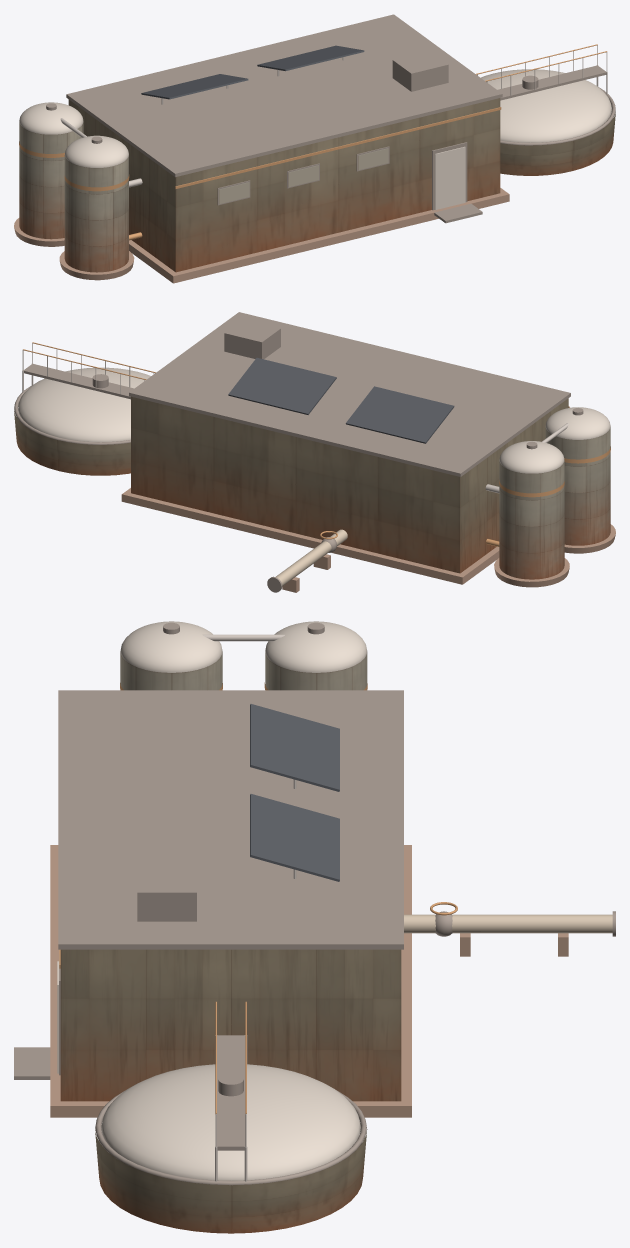
Rendered from E13_water_treatment.glb.
3 views of the same model, one above another, from view 1: azimuth 30°, elevation 25°; view 2: azimuth 150°, elevation 25°; view 3: azimuth 270°, elevation 25° (orthographic). The views are drawn at different scales.
Parts seen in each view (by area): view 1: roof_edge, treatment_hall, filter_tank (×2), settling_tank_cover, foundation, settling_tank_wall, filter_tank_head (×2), roof_radiator (×2), airlock_door, roof_air_unit, window (×3), tank_base (×2) (+6 smaller); view 2: treatment_hall, roof_edge, filter_tank (×2), roof_radiator (×2), settling_tank_cover, foundation, settling_tank_wall, filter_tank_head (×2), roof_air_unit, tank_base (×2), settling_walkway, intake_pipe (+1 smaller); view 3: roof_edge, treatment_hall, settling_tank_cover, settling_tank_wall, roof_radiator (×2), filter_tank_head (×2), foundation, filter_tank (×2), intake_pipe, roof_air_unit, settling_walkway, settling_tank_rim (+1 smaller).
Part boxes in pixels (<box>): roof_edge: <box>66,14,502,177</box>; treatment_hall: <box>68,98,500,272</box>; filter_tank (×2): <box>19,121,128,272</box>; settling_tank_cover: <box>481,69,611,142</box>; foundation: <box>129,188,509,283</box>; settling_tank_wall: <box>500,112,615,175</box>; filter_tank_head (×2): <box>19,102,128,167</box>; roof_radiator (×2): <box>141,45,364,99</box>; airlock_door: <box>435,146,465,209</box>; roof_air_unit: <box>392,51,448,91</box>; window (×3): <box>219,148,388,204</box>; tank_base (×2): <box>14,218,134,280</box>; treatment_hall: <box>131,396,568,573</box>; roof_edge: <box>129,312,570,476</box>; filter_tank (×2): <box>499,427,610,579</box>; roof_radiator (×2): <box>228,357,454,443</box>; settling_tank_cover: <box>18,367,150,442</box>; foundation: <box>121,488,499,584</box>; settling_tank_wall: <box>14,411,130,475</box>; filter_tank_head (×2): <box>499,407,610,473</box>; roof_air_unit: <box>224,319,280,359</box>; tank_base (×2): <box>494,524,615,587</box>; settling_walkway: <box>23,364,133,399</box>; intake_pipe: <box>276,529,347,586</box>; roof_edge: <box>58,690,403,949</box>; treatment_hall: <box>60,949,401,1101</box>; settling_tank_cover: <box>101,1064,360,1180</box>; settling_tank_wall: <box>95,1129,367,1233</box>; roof_radiator (×2): <box>250,704,339,881</box>; filter_tank_head (×2): <box>120,621,367,672</box>; foundation: <box>50,845,411,1117</box>; filter_tank (×2): <box>120,652,367,690</box>; intake_pipe: <box>404,914,612,933</box>; roof_air_unit: <box>137,864,196,921</box>; settling_walkway: <box>216,1035,245,1150</box>; settling_tank_rim: <box>95,1090,366,1185</box>.
Bounding box in the file's own units: 24.1 × 5.2 × 14.14.
Materials: 10 (2 with a texture image).
